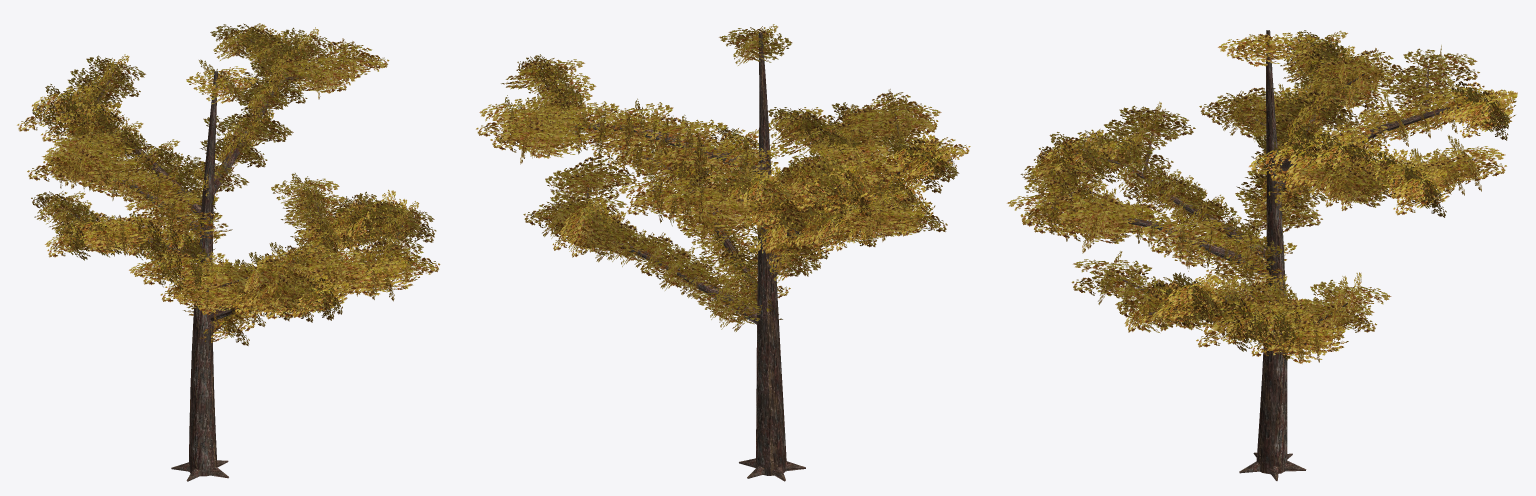
Rendered from tree_3d_04_yellow_lod0.glb.
The picture shows the model from 3 angles, left to right: view 1: azimuth 30°, elevation 25°; view 2: azimuth 150°, elevation 25°; view 3: azimuth 270°, elevation 25°; orthographic projection. The views are drawn at different scales.
Visible parts, largest first — view 1: foliage_cards, wood_geometry; view 2: foliage_cards, wood_geometry; view 3: foliage_cards, wood_geometry.
Boxes of the visible parts, x1,y1,x2,y2 form: foliage_cards: (17, 23, 440, 345); wood_geometry: (61, 37, 409, 481); foliage_cards: (476, 24, 970, 331); wood_geometry: (516, 33, 927, 481); foliage_cards: (1007, 30, 1517, 363); wood_geometry: (1051, 30, 1492, 480).
Size of the model in its own units: 8.14 by 8.31 by 8.74.
Materials: 2 (2 with a texture image).
